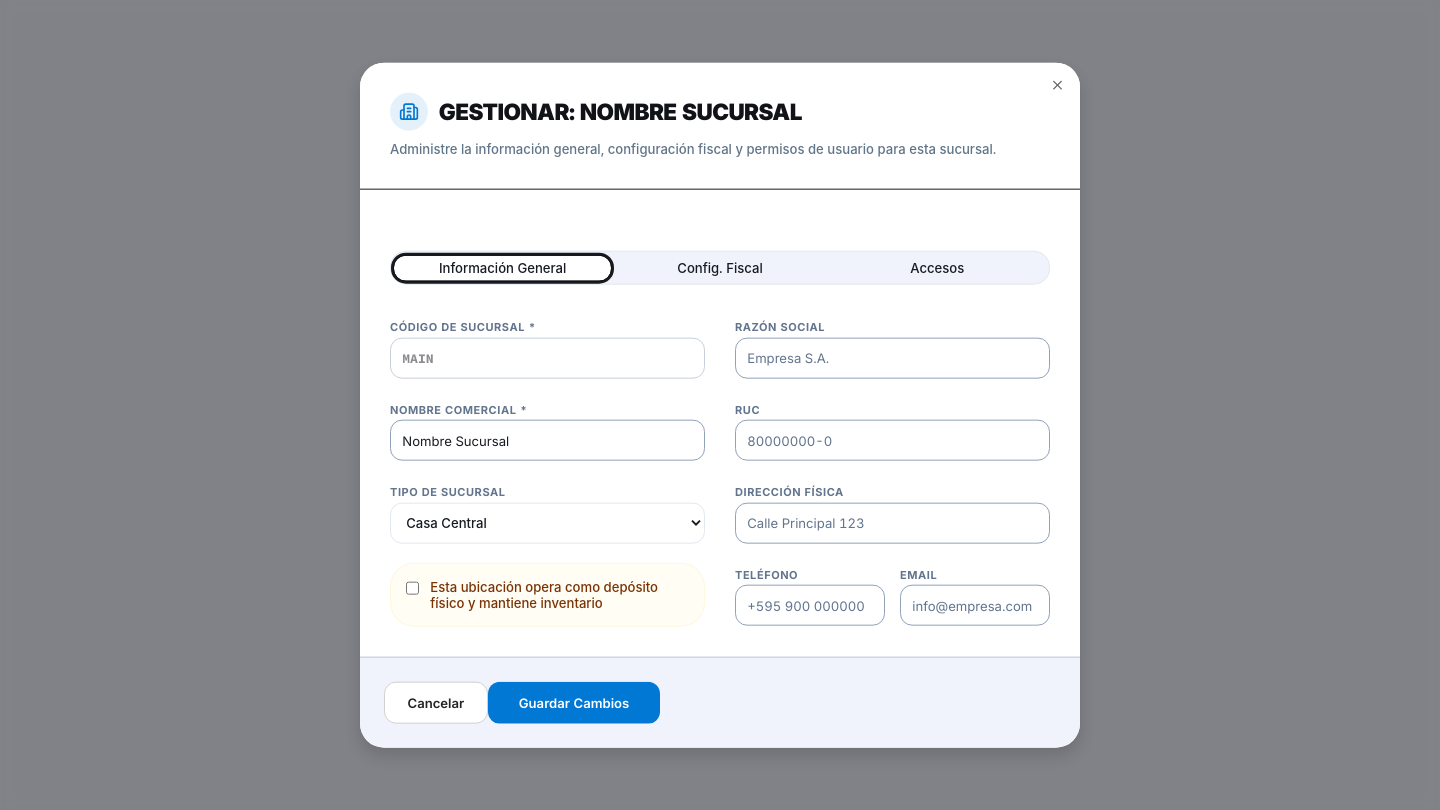
BranchModal — guardia de cambios sin guardar › cambiar de pestaña con cambios sin guardar pide confirmación; Descartar revierte y navega
Replace the text in the field with placeholder "Ej: Sucursal Central" below "Nombre Comercial *" with "Otro Nombre" at [548, 440], box [390,420,705,461]
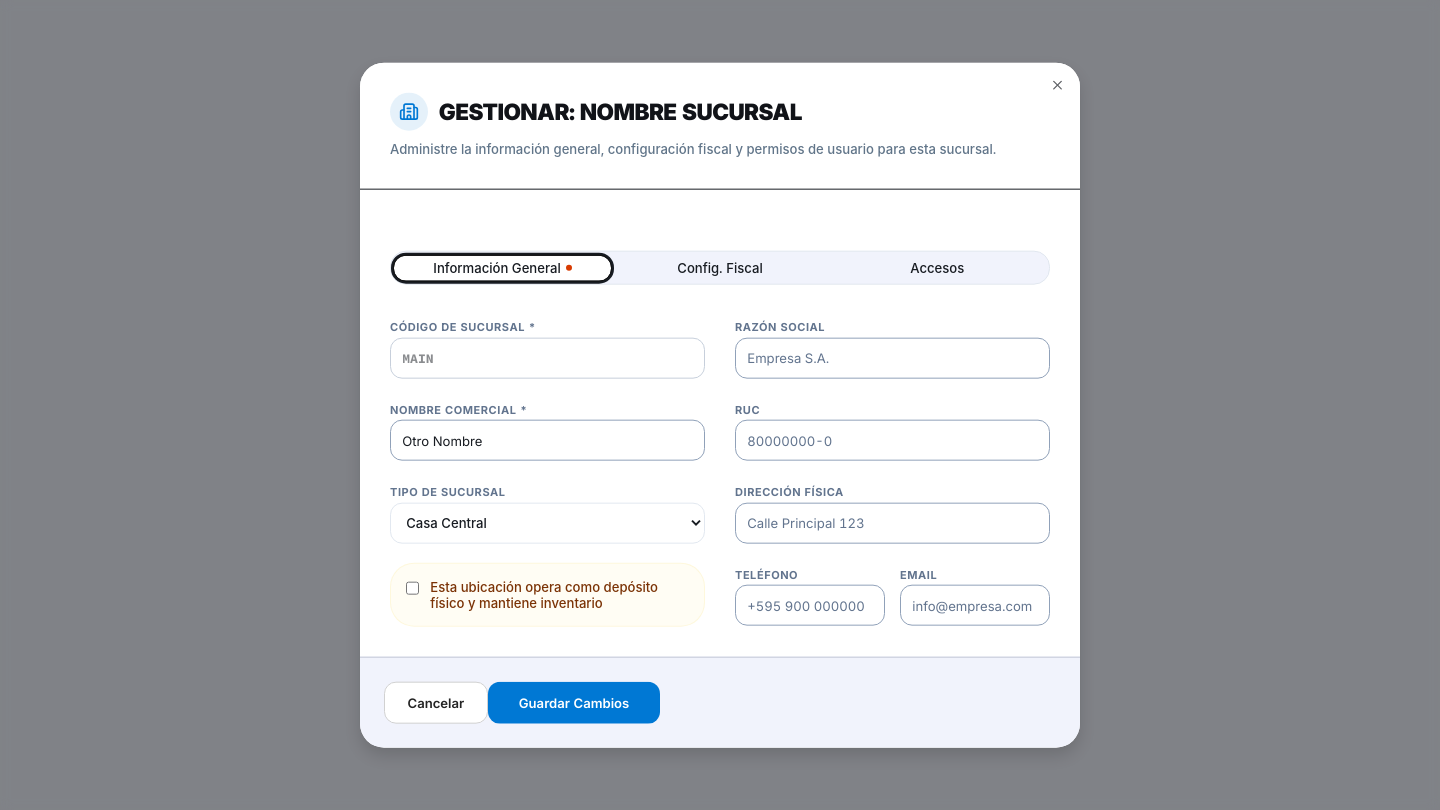
Click the tab "Config. Fiscal".
click(720, 268)  # box [611,256,829,280]
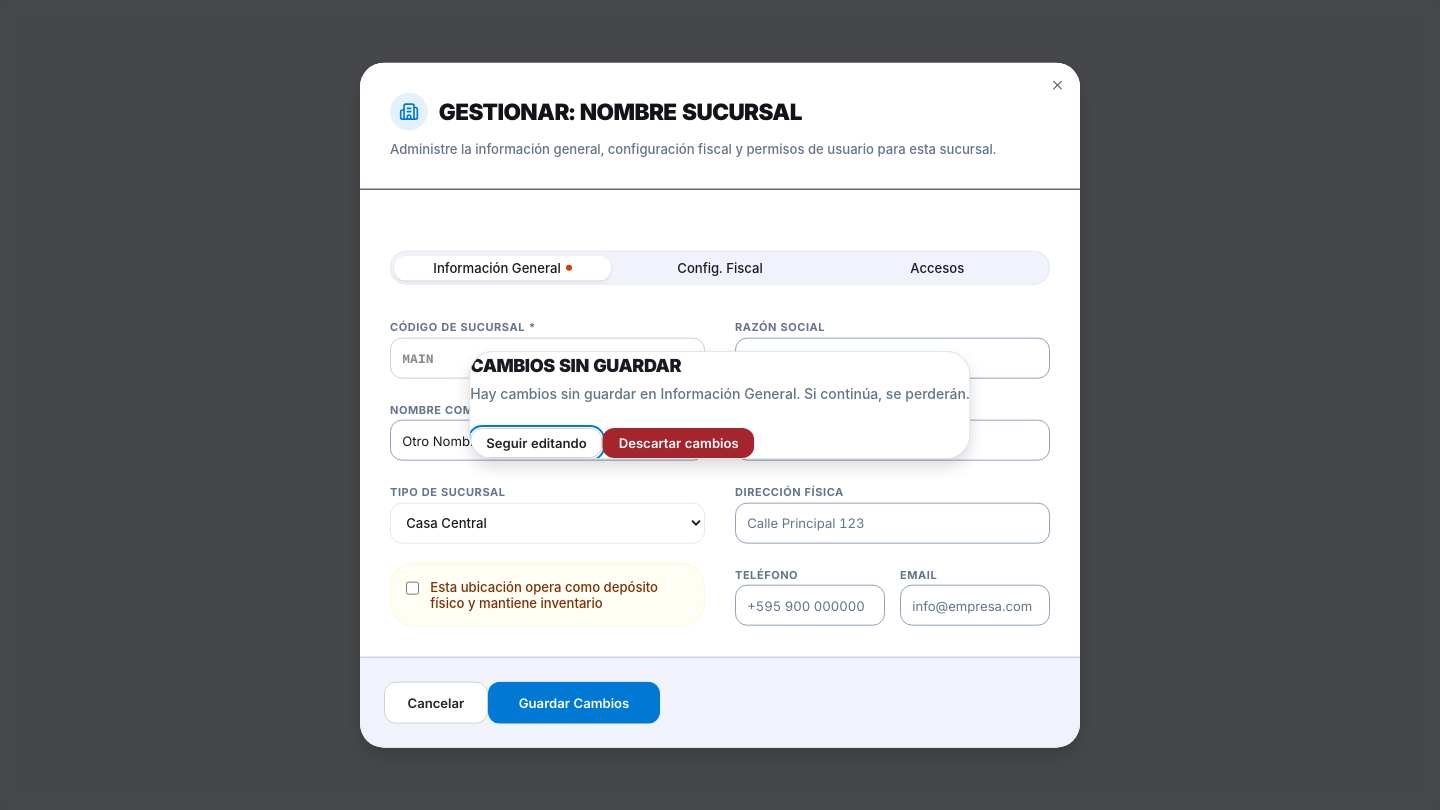
Check: the text "Hay cambios sin guardar en Información General" is shown, box [470,385,970,402]
Click the button "Descartar cambios".
click(679, 443)  # box [603,428,755,458]
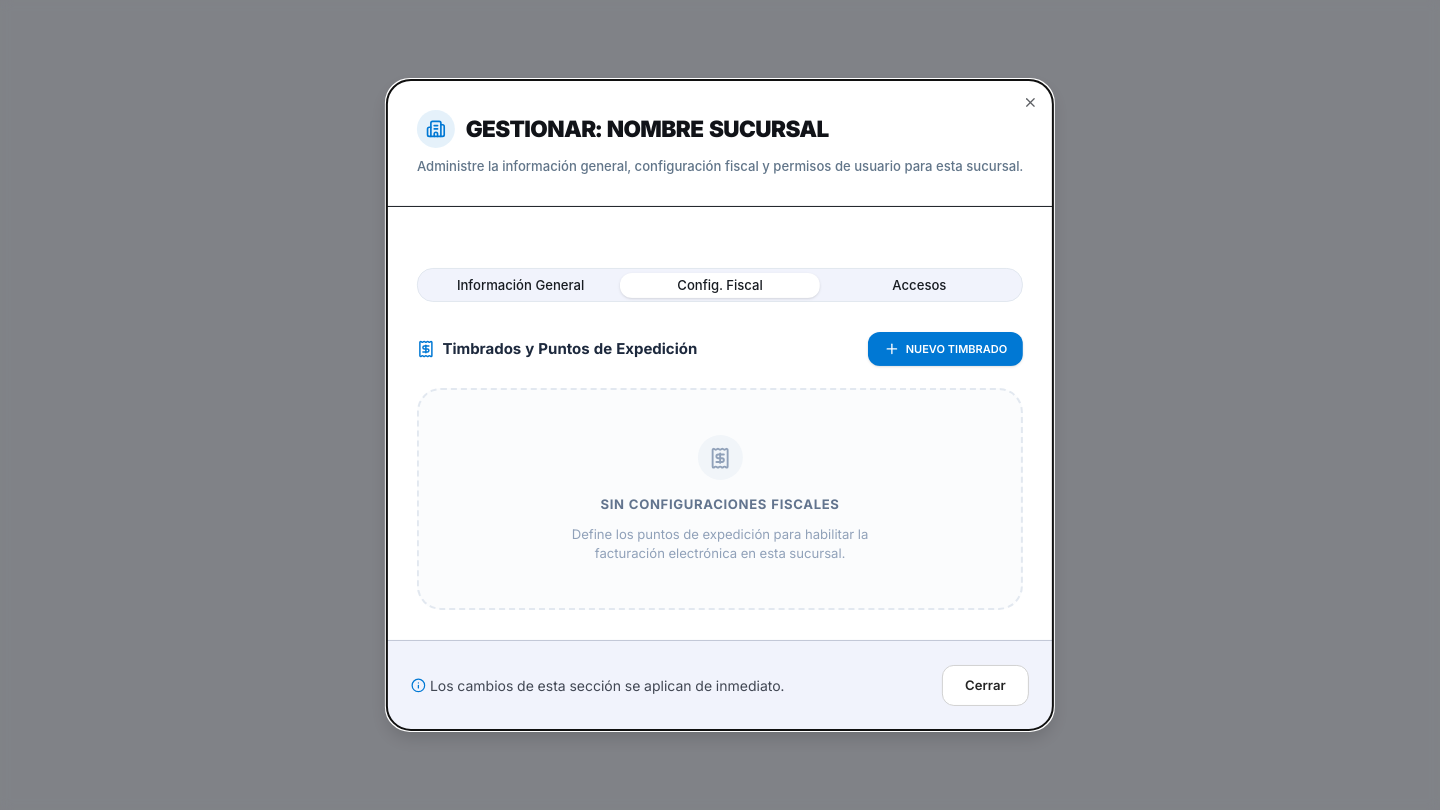
Check: the text "Los cambios de esta sección se aplican de inmediato." is shown, box [411,675,784,695]
Click the tab "Información General".
click(521, 285)  # box [421,273,620,298]
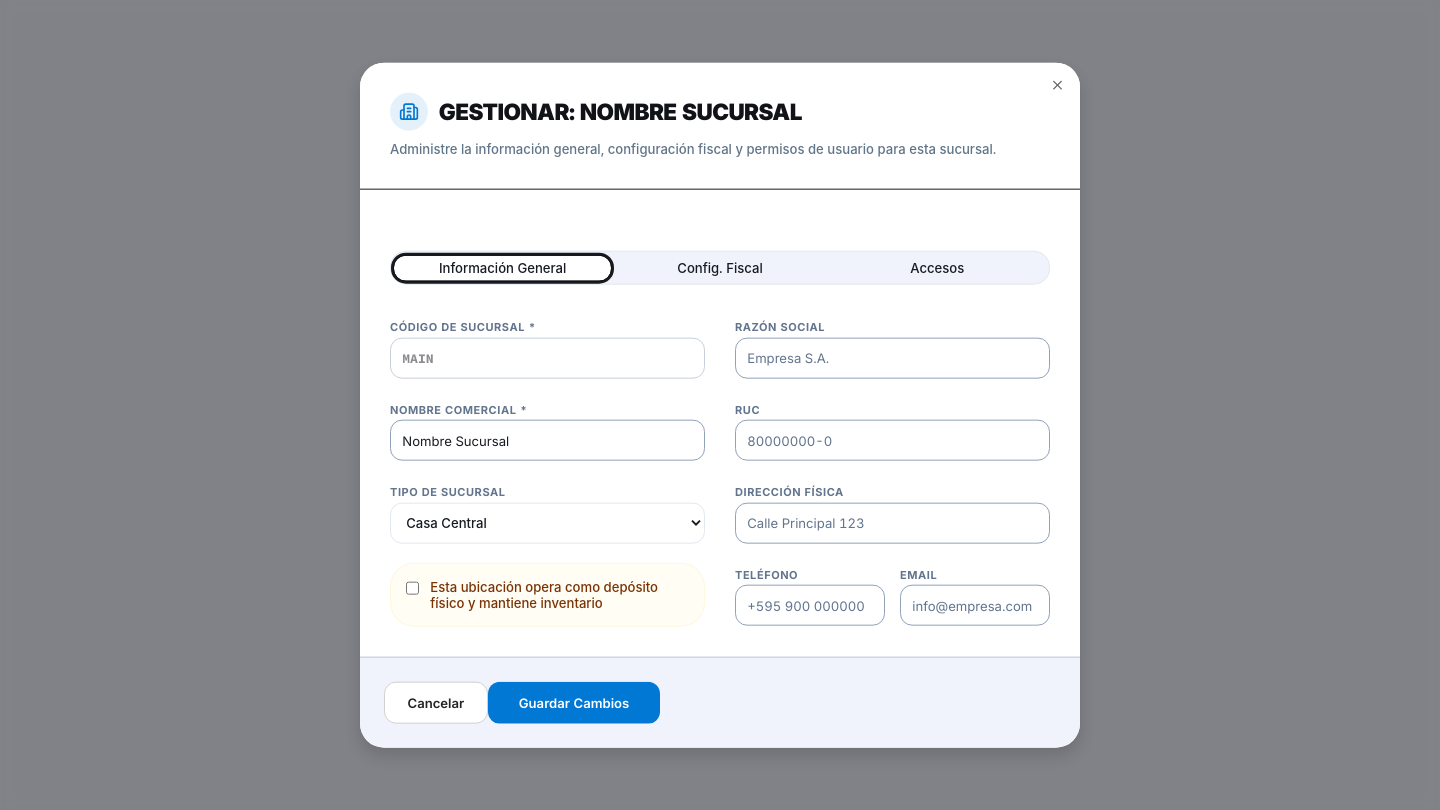
Check: the field showing "Otro Nombre" is not shown
Check: the field showing "Nombre Sucursal" below "Nombre Comercial *" is shown, box [390,420,705,461]
